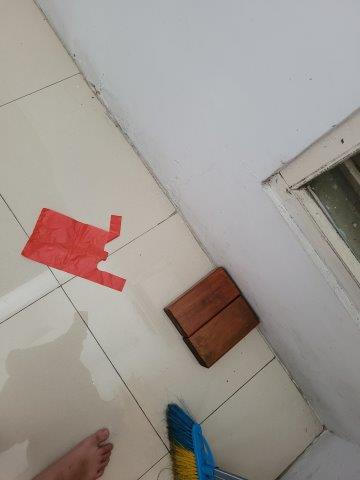plastik: (21, 209, 127, 294)
